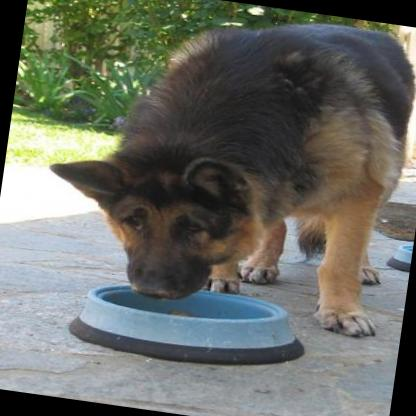German_shepherd: (31, 0, 416, 342)
